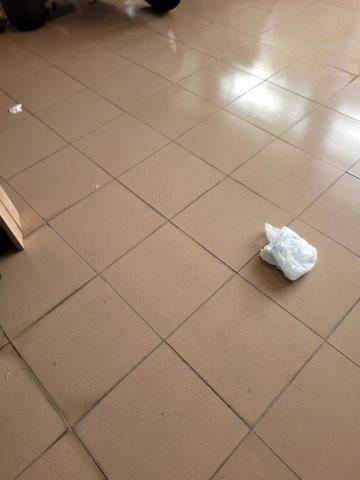plastik: (262, 224, 317, 282)
